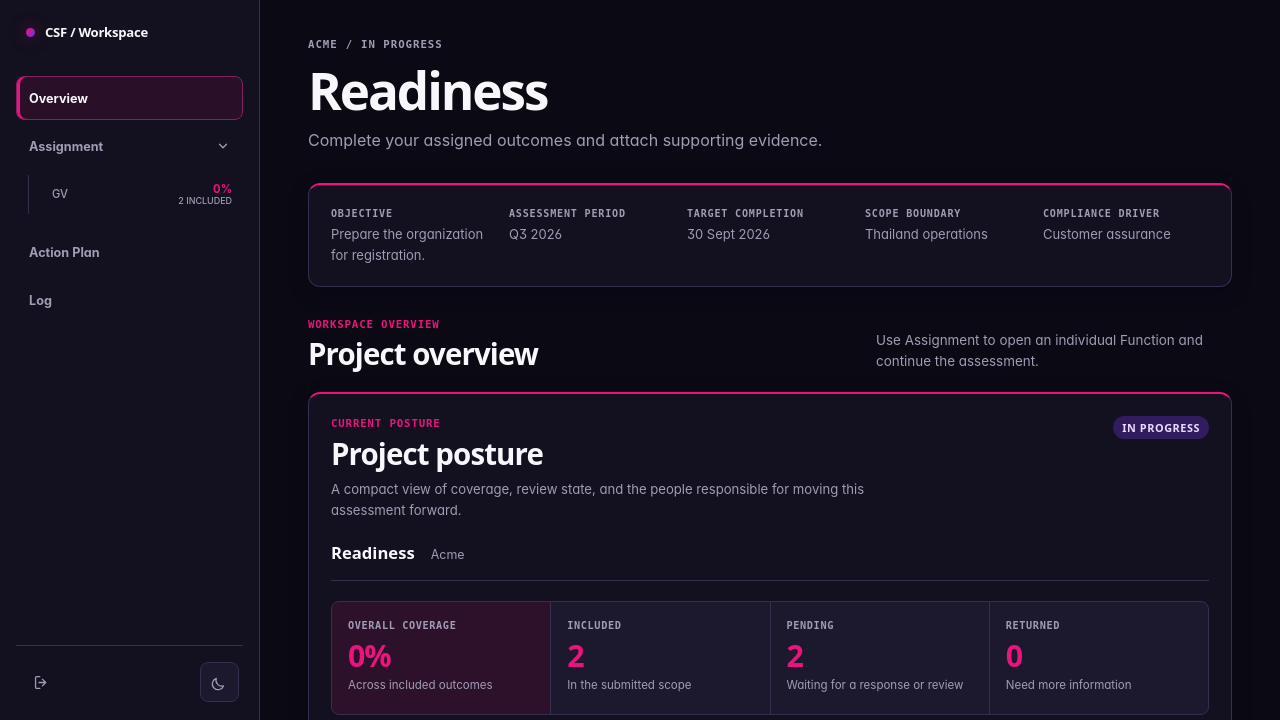
it: explains when a stakeholder has no assigned queue
The image size is (1280, 720).
Click the button with aria-label "GV Govern": x=142, y=195 x1=41 y1=175 x2=243 y2=214
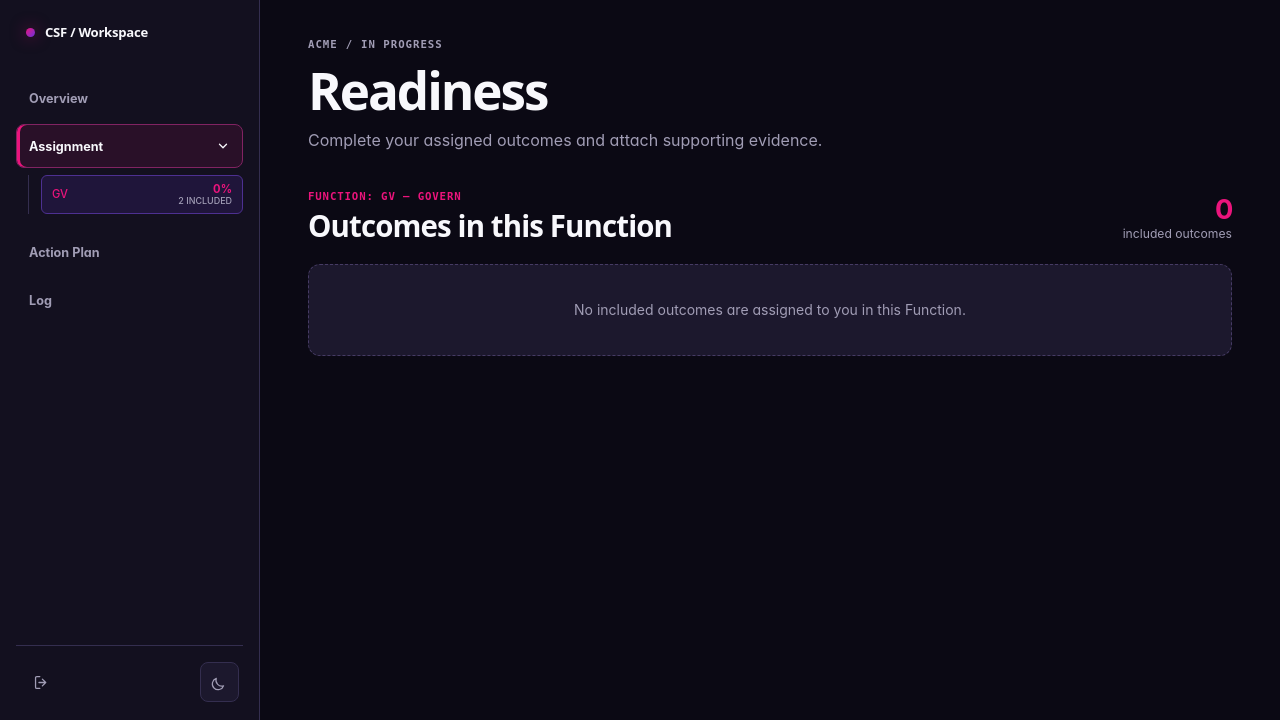
Result: the message reads "No included outcomes are assigned to you in this Function." at x1=574 y1=301 x2=966 y2=318
